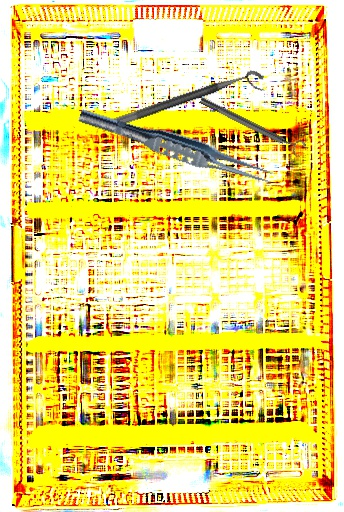Fixation Ring: (104, 66, 269, 144), (197, 91, 307, 159)
Tissue Forceps: (75, 104, 277, 190)
